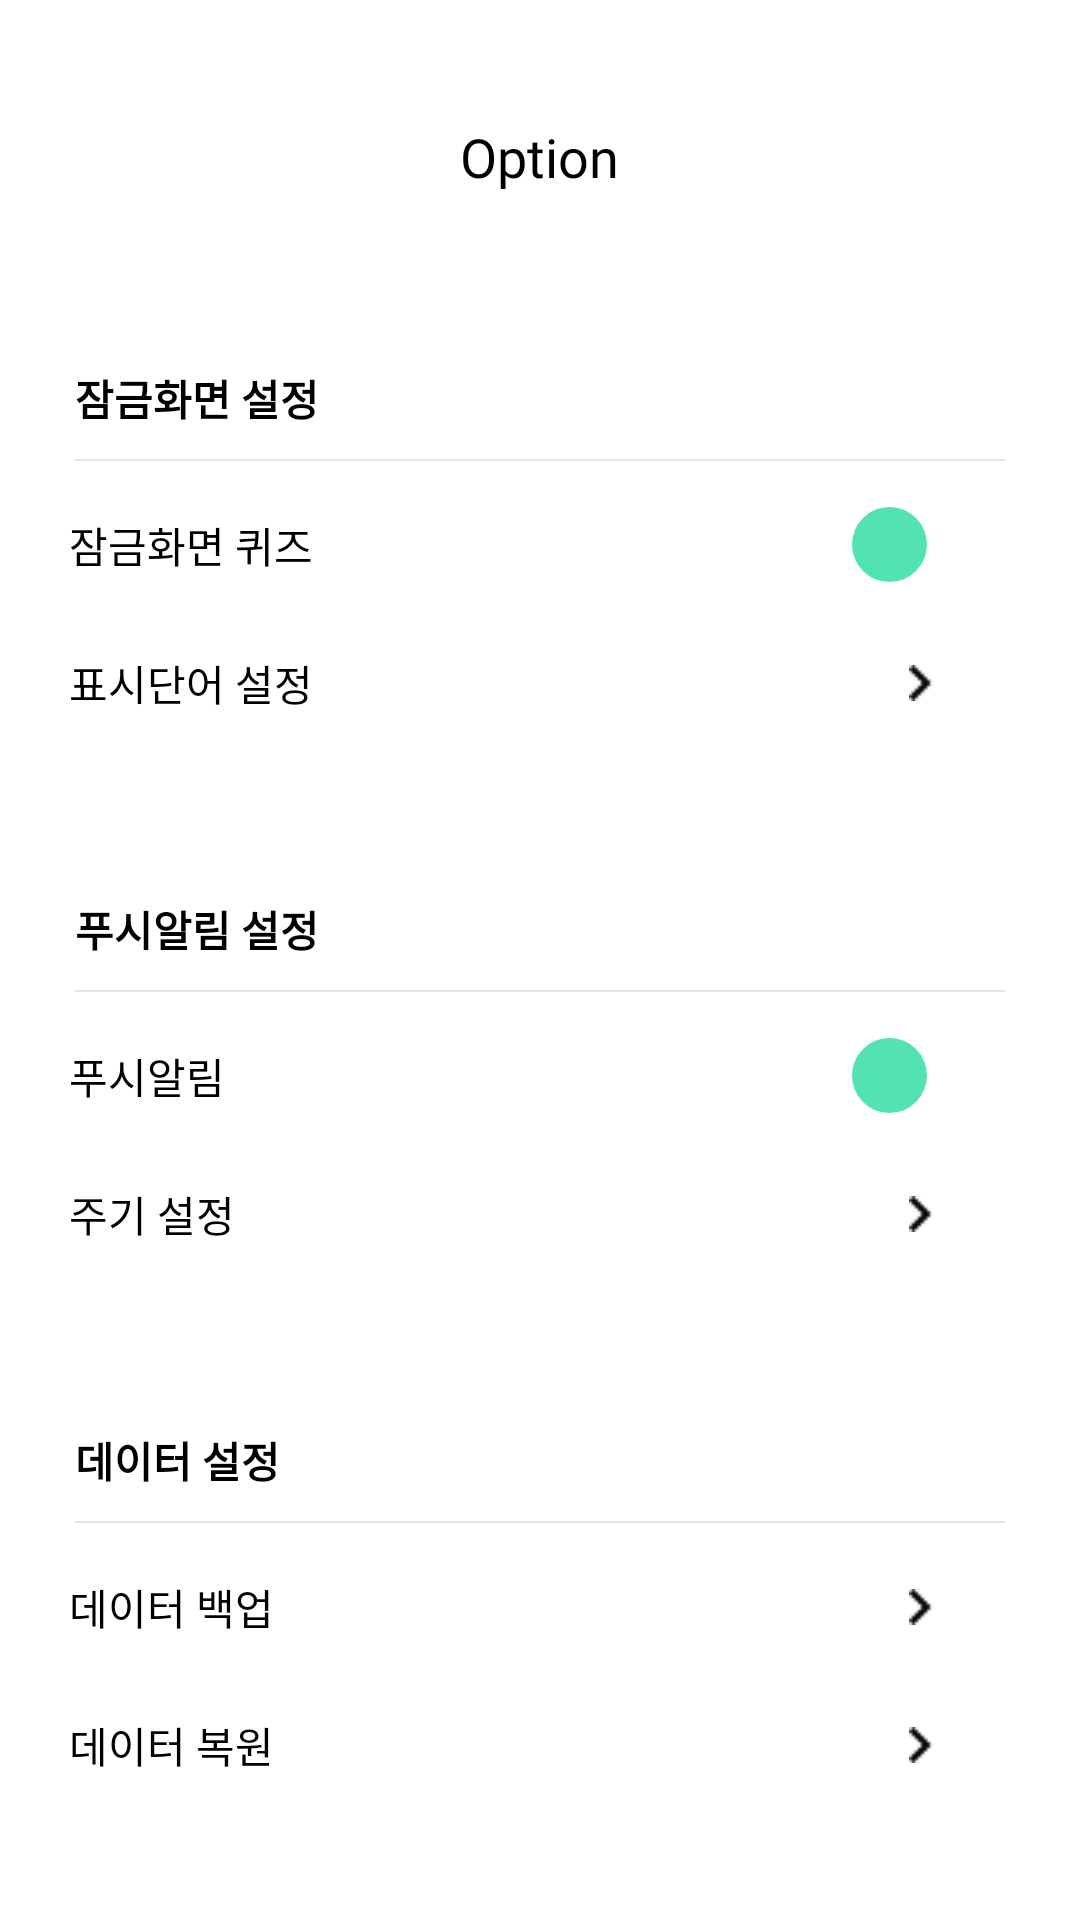

Named icons in this screenshot (1080×1920) and their bounding boxes, (x1, y1, x2, y2):
right: (909, 665, 931, 701), (909, 1196, 931, 1232), (909, 1589, 931, 1625), (909, 1727, 931, 1763)
